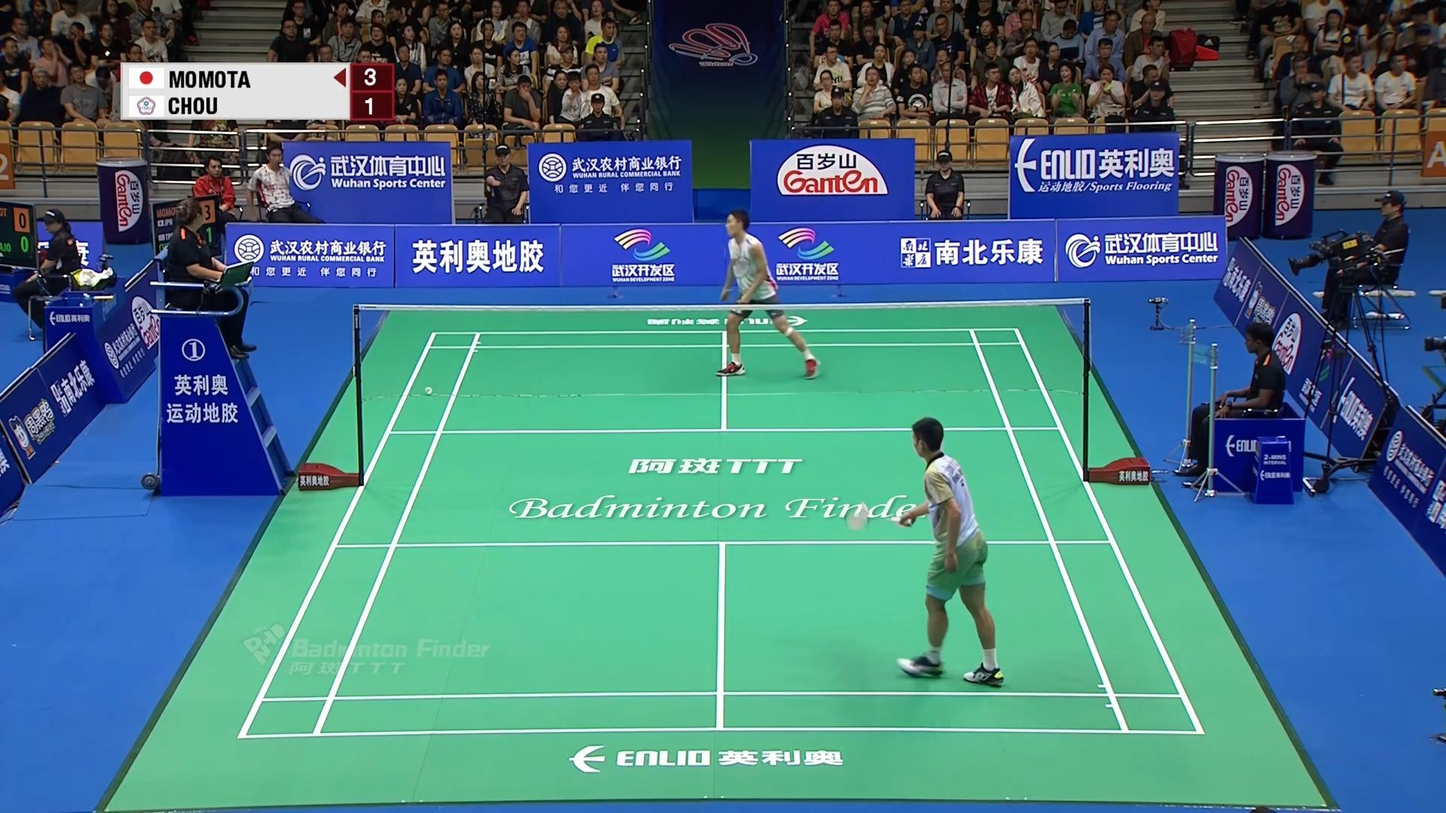shuttlecock: (425, 385, 433, 397)
